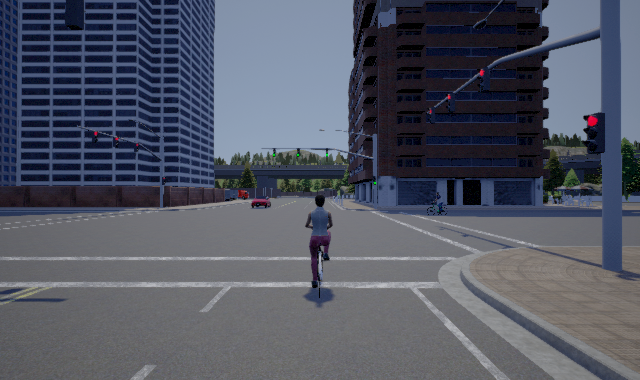bike: (305, 193, 337, 298), (426, 191, 450, 215)
traffic_light: (583, 112, 605, 154), (446, 93, 455, 113), (427, 107, 435, 124), (92, 131, 98, 143), (113, 137, 119, 148), (134, 143, 139, 152), (162, 177, 166, 185), (373, 176, 376, 185), (297, 148, 300, 157), (273, 148, 276, 157), (326, 148, 328, 157)
vehicle: (251, 194, 272, 209)
